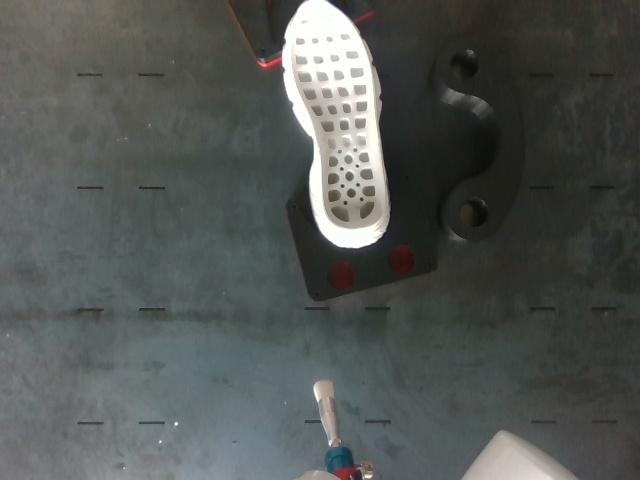shoes: (290, 1, 386, 231)
